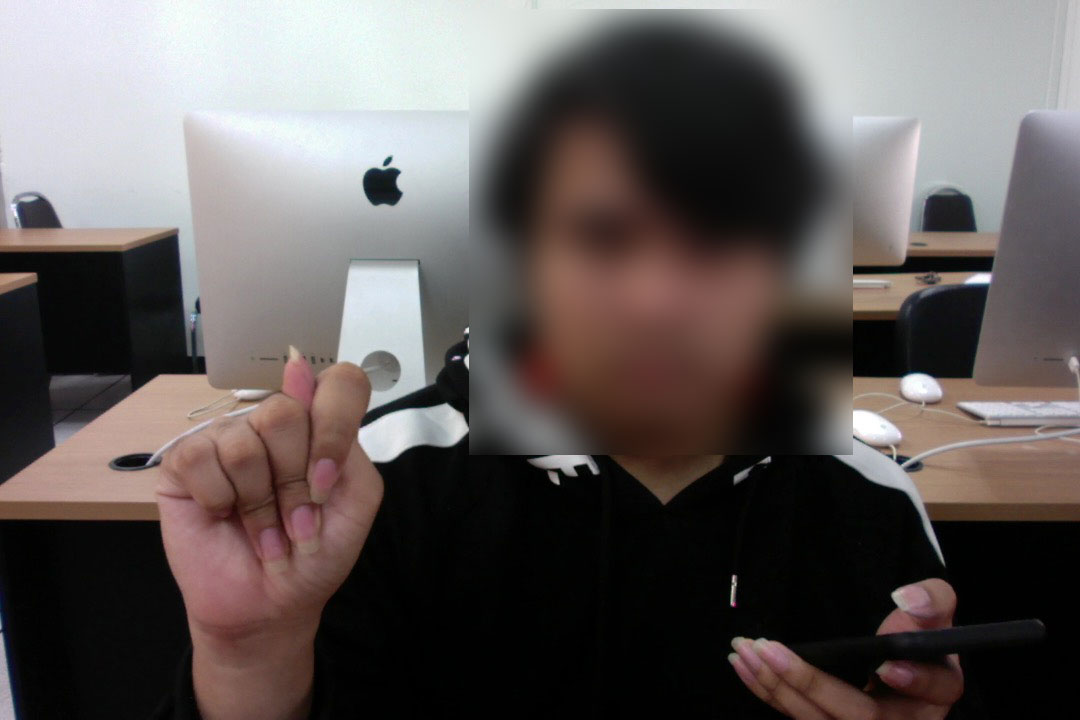tor: (152, 345, 392, 652)
